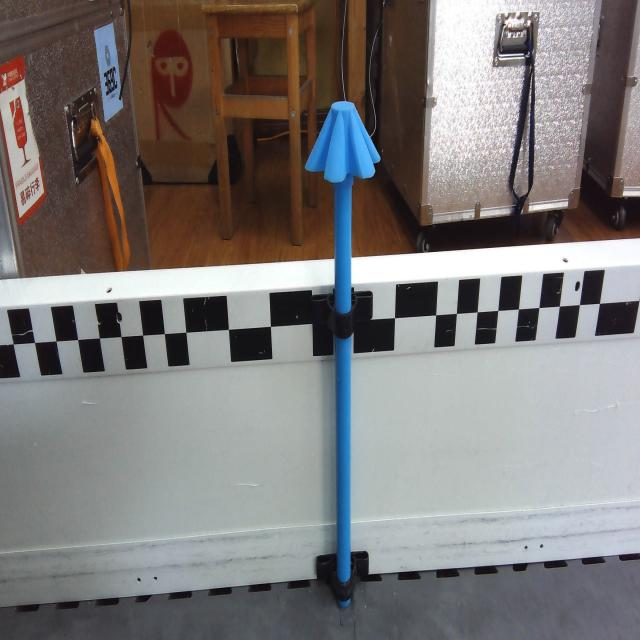zblue-Stake-Head: (306, 98, 380, 183)
